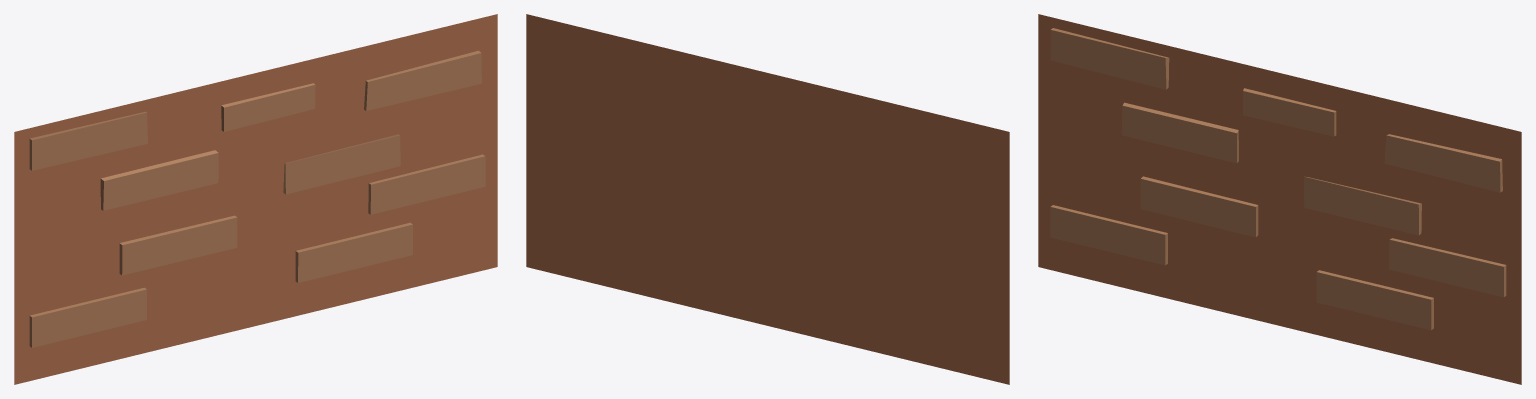
Rendered from Ext-BrickV3HalfWall.fbx.
3 renders of one model, left to right at view 1: azimuth 30°, elevation 25°; view 2: azimuth 150°, elevation 25°; view 3: azimuth 330°, elevation 25°, orthographic.
Parts seen in each view (by area): view 1: Ext-BrickV3HalfWall; view 2: Ext-BrickV3HalfWall; view 3: Ext-BrickV3HalfWall.
Part boxes in pixels (x1=…): Ext-BrickV3HalfWall: x1=14, y1=14, x2=497, y2=384; Ext-BrickV3HalfWall: x1=526, y1=14, x2=1009, y2=384; Ext-BrickV3HalfWall: x1=1038, y1=14, x2=1521, y2=384.
Bounding box in the file's own units: 200 × 100 × 2.
